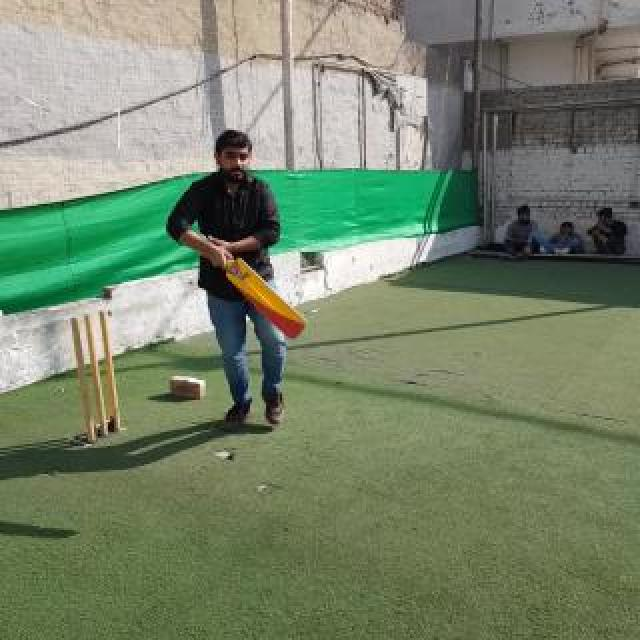bat: (225, 257, 307, 339)
